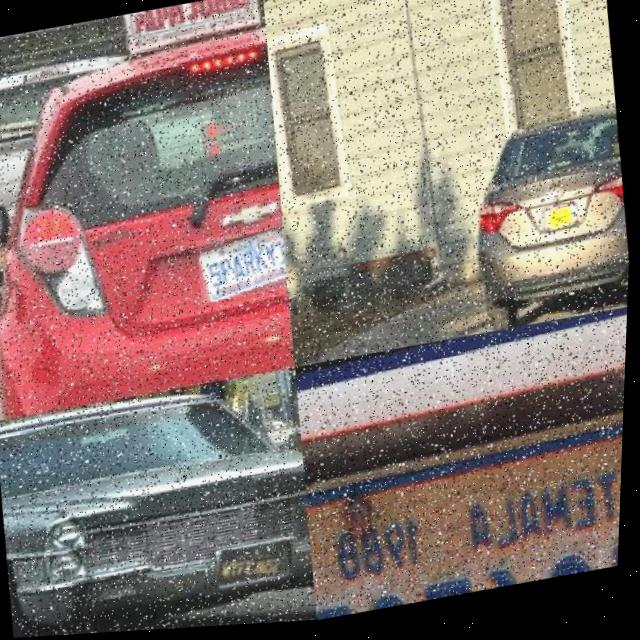LicensePlate: (200, 230, 289, 305), (224, 551, 292, 584), (544, 208, 581, 238)
